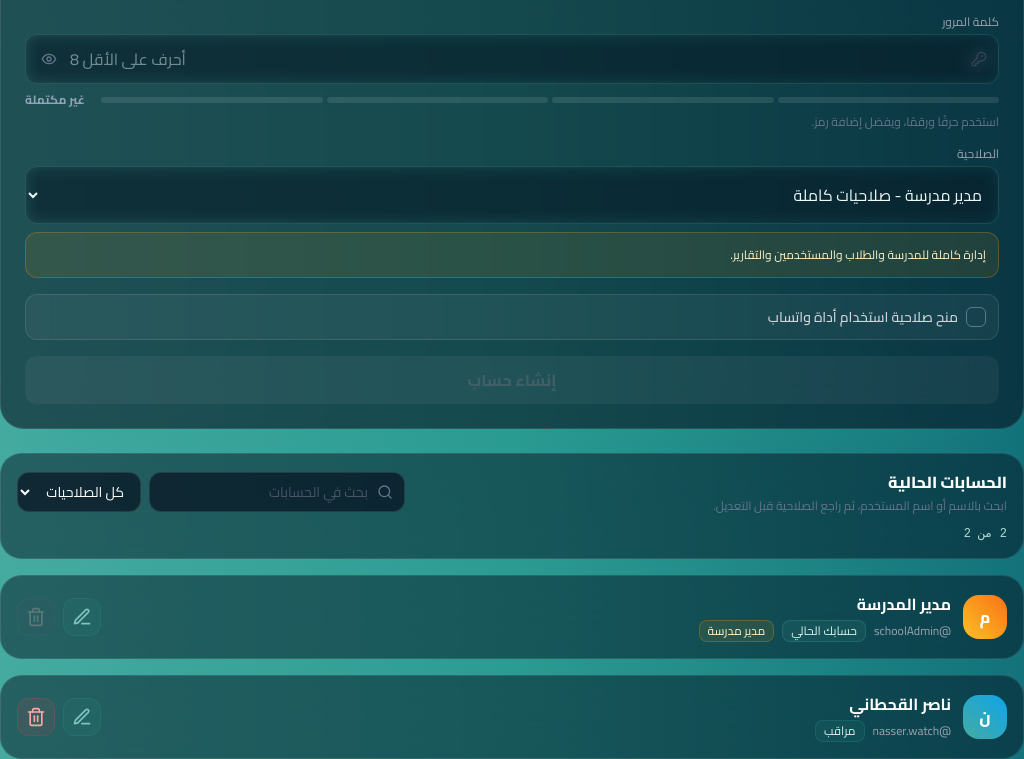
Test: admin users tab › searches accounts and protects the active account from deletion
(page scrolled)
Expected: the text "حسابك الحالي" is shown, [782,620,866,642]
Expected: the button titled "لا يمكن حذف الحساب المستخدم حاليًا" is disabled, [17,598,55,636]
Type "ناصر" into the search field named "بحث في المستخدمين". click: (277, 492)
box: [149,472,405,512]
(page scrolled)
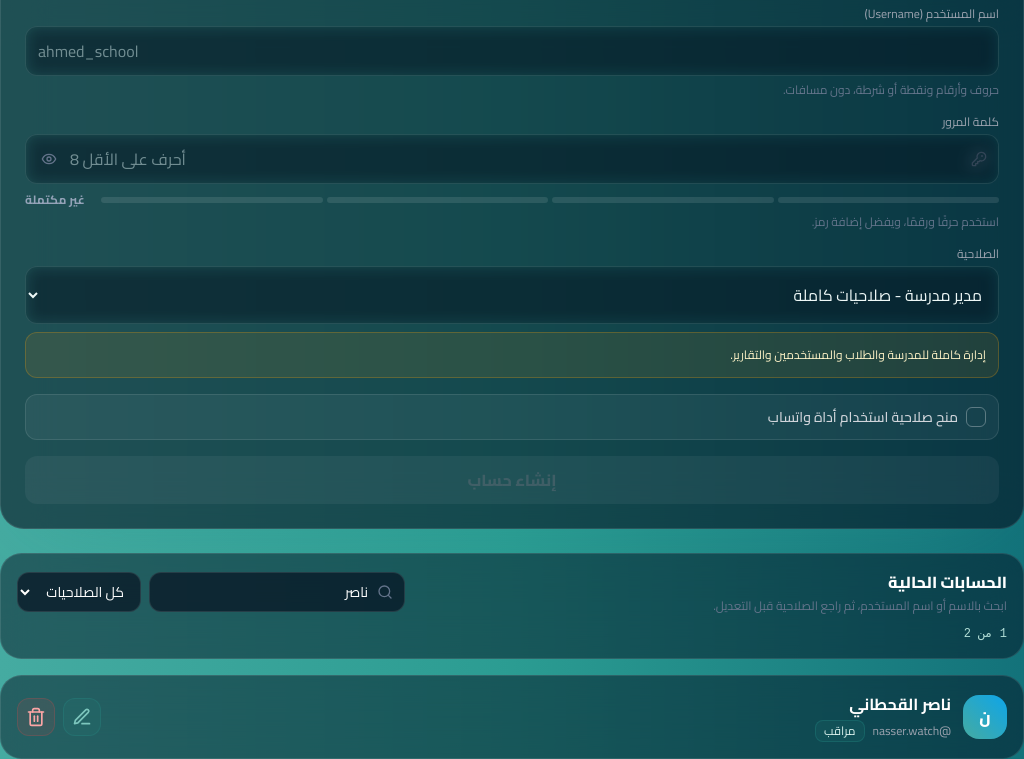
Expected: the heading "ناصر القحطاني" is shown, [849,689,951,719]
Expected: the heading "مدير المدرسة" is gone
Expected: the text "1 من 2" is shown, [964,627,1007,641]
